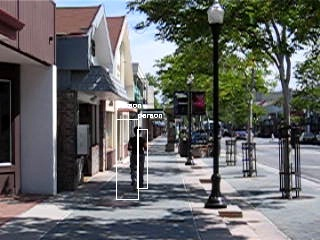person: (127, 124, 148, 190), (126, 124, 147, 190), (128, 124, 149, 190), (127, 123, 148, 189), (127, 125, 148, 191)
target_negative: (82, 37, 306, 136), (179, 5, 289, 58), (39, 26, 100, 121), (271, 161, 301, 165), (283, 235, 318, 236)
